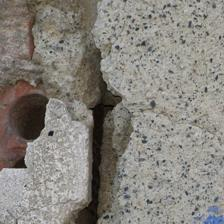Crack: (70, 53, 129, 224), (21, 2, 43, 71)
